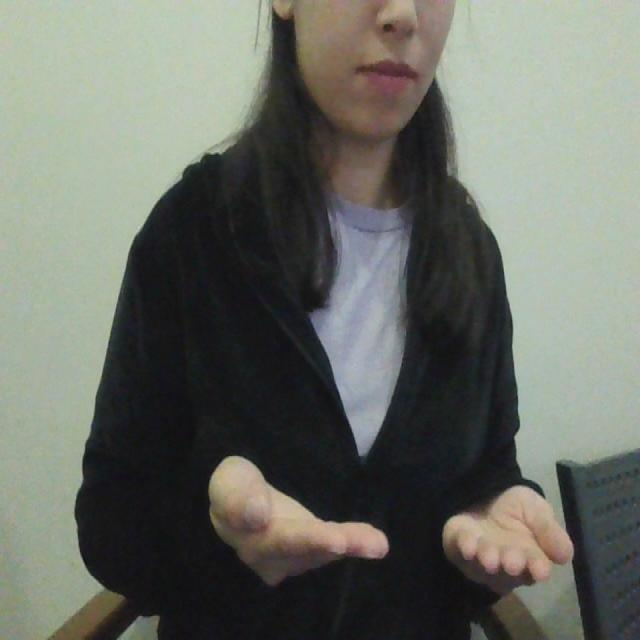Evet: (209, 448, 579, 602)
